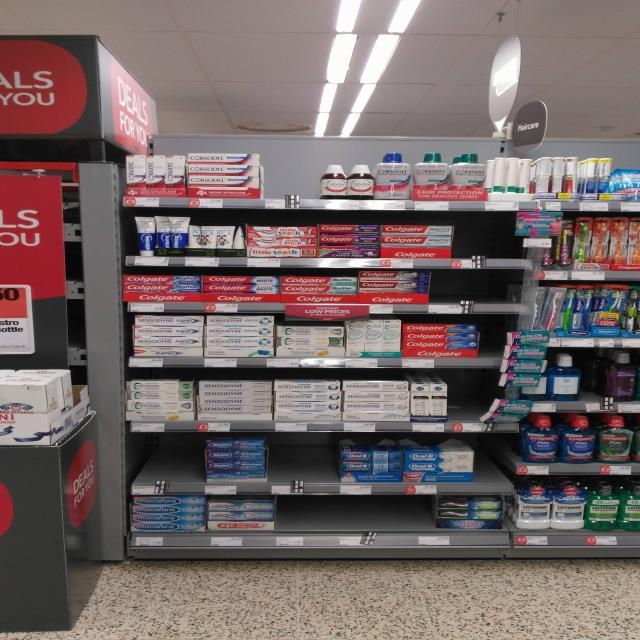empty: (275, 494, 438, 536), (125, 435, 199, 490), (453, 212, 529, 265), (433, 270, 532, 309), (262, 147, 325, 197), (269, 434, 333, 482), (441, 376, 494, 419), (474, 432, 512, 486), (573, 348, 609, 403)
